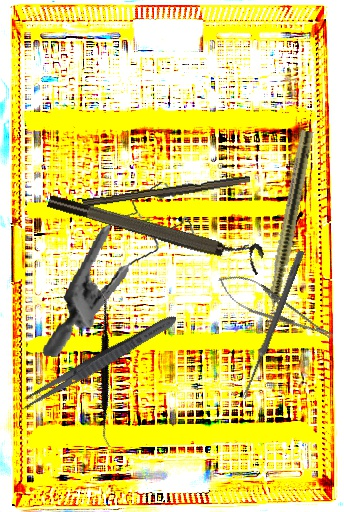Dressing Forceps: (16, 310, 181, 415)
Fixation Ring: (45, 181, 267, 276)
Handpiece: (258, 129, 315, 336)
Needle Holder: (212, 266, 338, 350)
Scalpel Handle: (82, 172, 251, 213)
Spatula Surgical: (31, 288, 176, 449)
Speculum: (41, 168, 203, 375)
Surgical Spoon: (240, 249, 305, 401)
